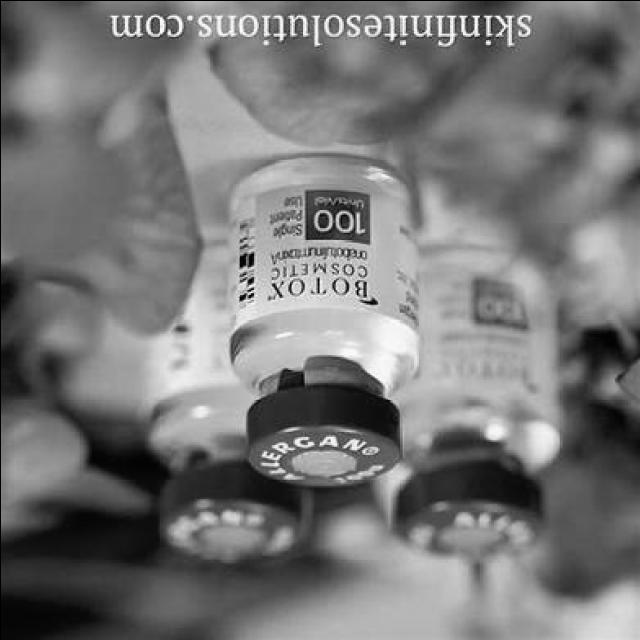vial: (377, 485, 539, 552), (248, 408, 402, 478), (170, 499, 290, 565)
